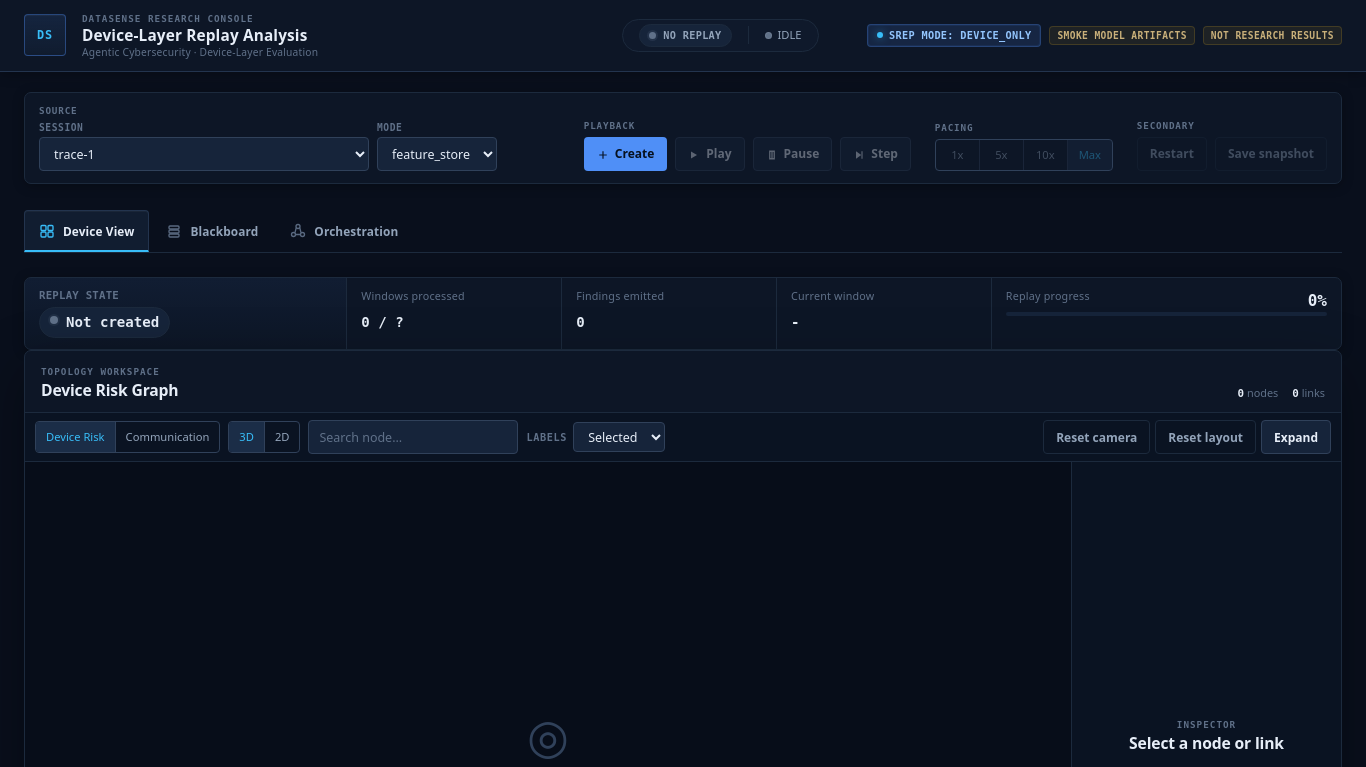
Test: Dashboard navigation regression › keeps Device, Blackboard, and Orchestration navigation plus replay/security placeholders
Expected: the element with test id "srep-mode-badge" reads "SREP MODE: DEVICE_ONLY", [889, 29, 1031, 41]
Expected: the button "Create" is shown, [584, 137, 667, 171]
Click the tab "Blackboard" at (212, 231), box [152, 210, 273, 252]
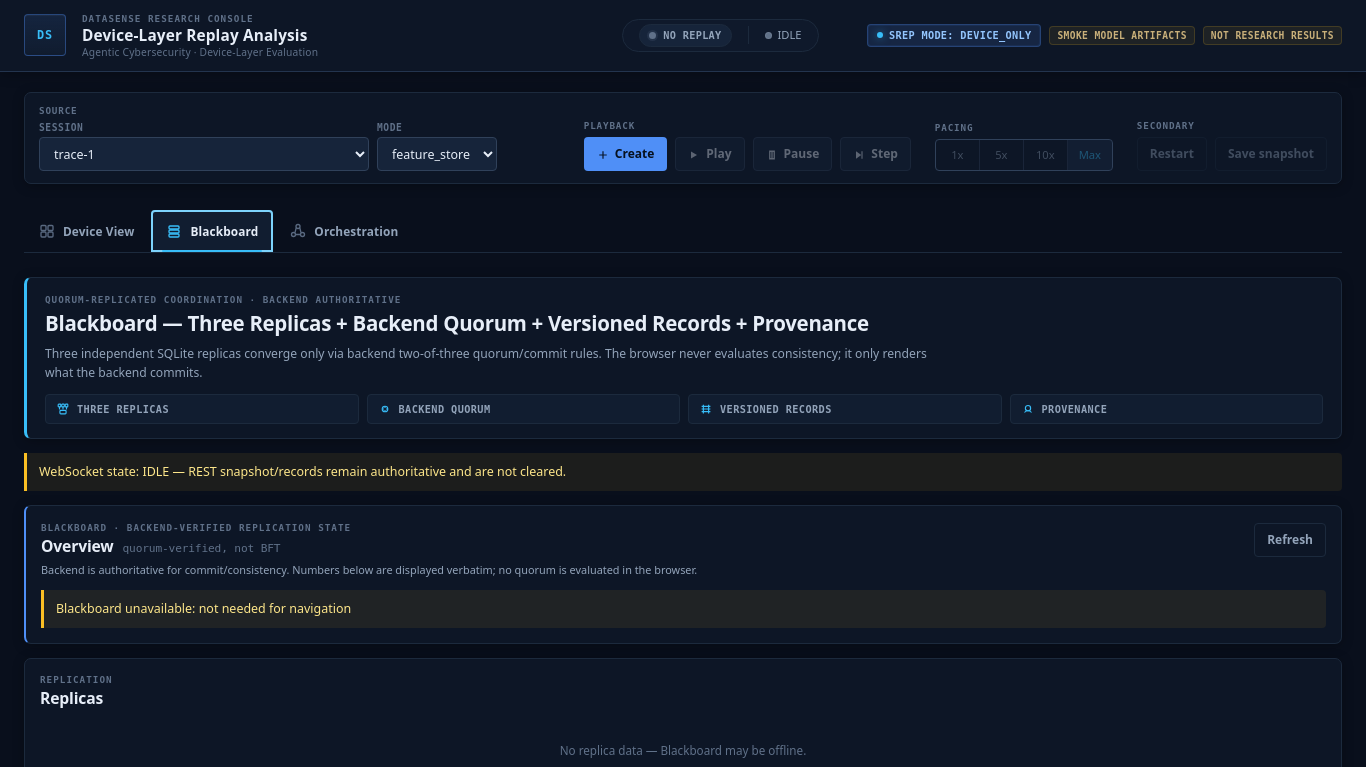
Click the tab "Orchestration" at (344, 231), box [275, 210, 413, 252]
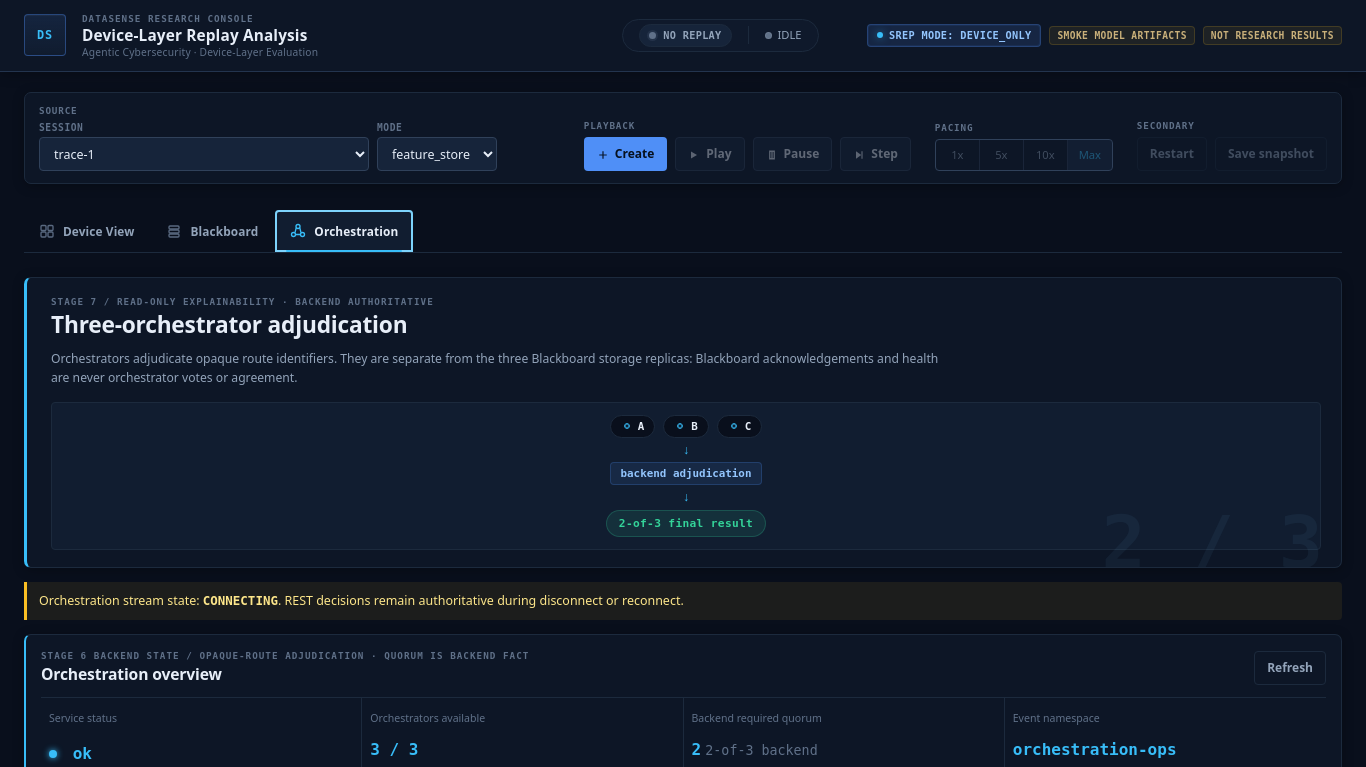
Expected: the heading "Three-orchestrator adjudication" is shown, [51, 309, 407, 340]
